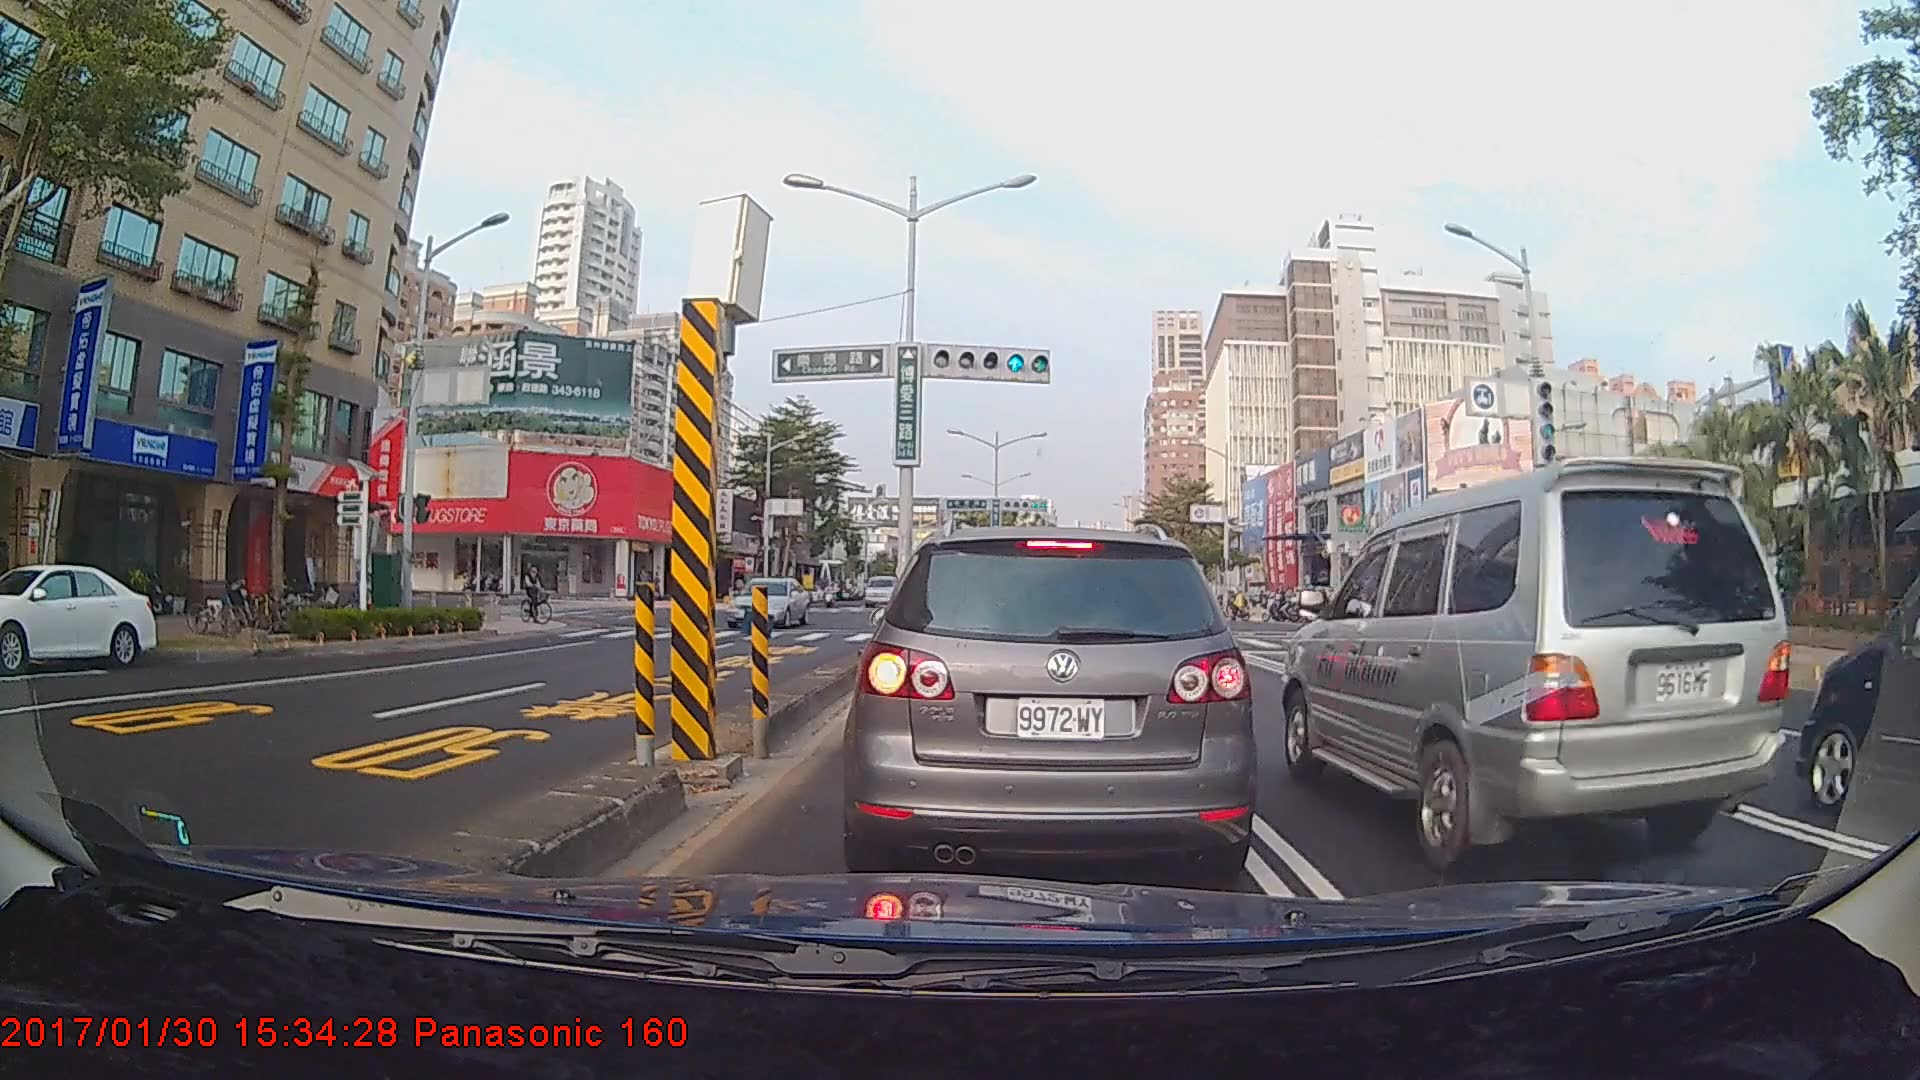rider: (518, 559, 561, 629)
vehicle: (1280, 457, 1794, 864), (851, 521, 1253, 883), (1793, 531, 1920, 827), (0, 561, 157, 671), (724, 574, 811, 630), (861, 573, 901, 607)
